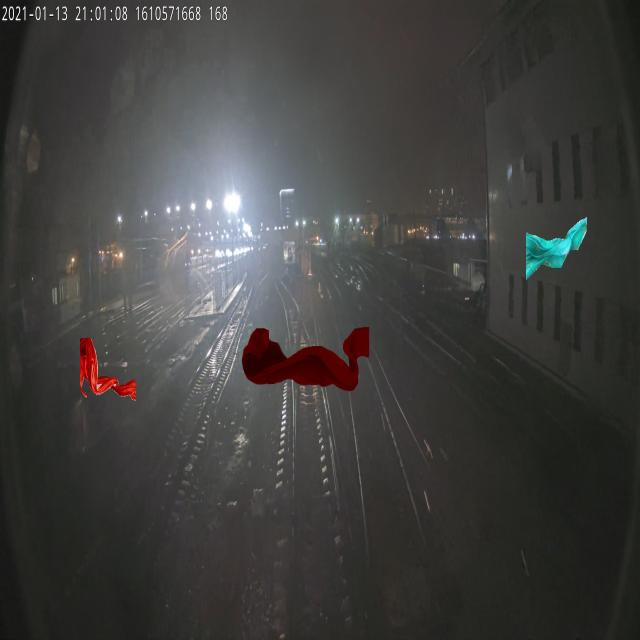floating object: (242, 327, 370, 391), (525, 217, 587, 280), (80, 337, 136, 401)
